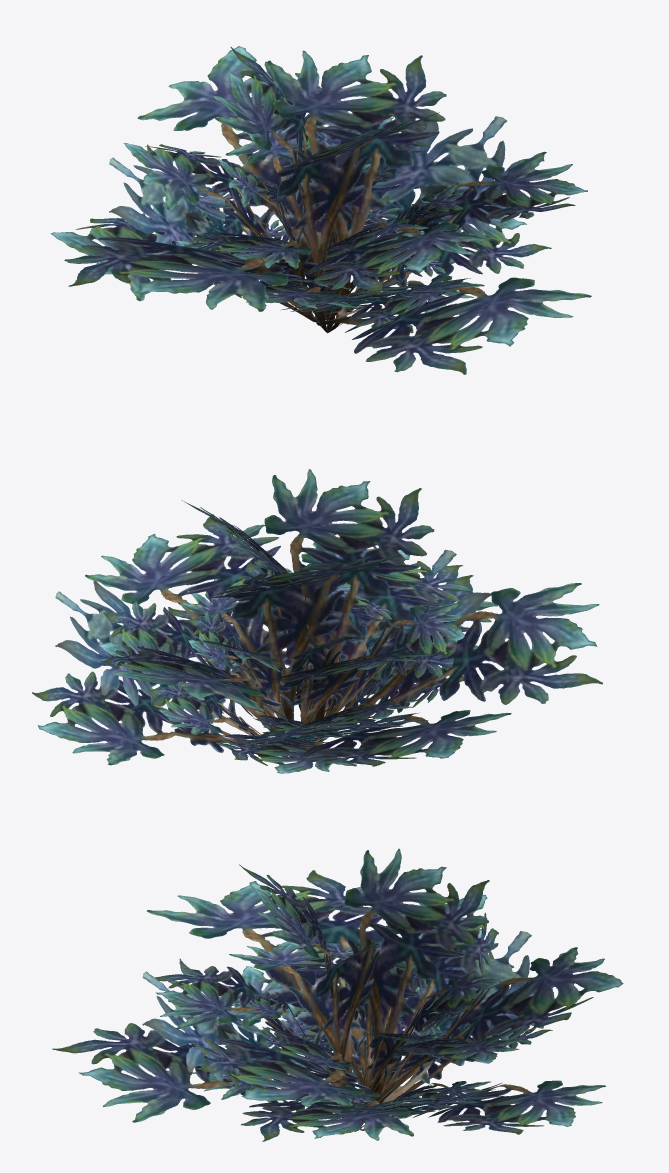
The model's file is silvermystbush01.obj.
The picture shows the model from 3 angles, top to bottom: view 1: azimuth 30°, elevation 25°; view 2: azimuth 150°, elevation 25°; view 3: azimuth 270°, elevation 25°; orthographic projection. The views are drawn at different scales.
Visible parts, largest first — view 1: silvermystbush01; view 2: silvermystbush01; view 3: silvermystbush01.
Boxes of the visible parts, box(x1,y1,x2,y2) form: silvermystbush01: box(50, 46, 591, 374); silvermystbush01: box(32, 469, 602, 773); silvermystbush01: box(52, 848, 623, 1141).
Size of the model in its own units: 3.16 by 1.37 by 3.08.
1 material, 1 textured.
